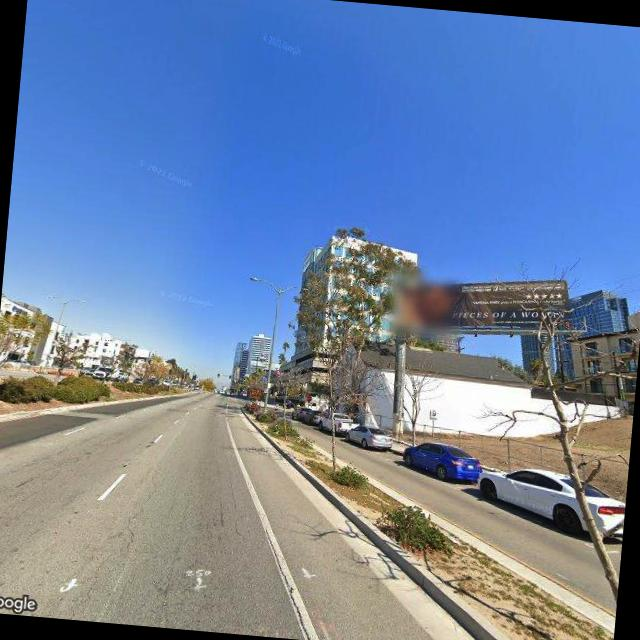pothole: (253, 523, 314, 636), (218, 478, 248, 541)
